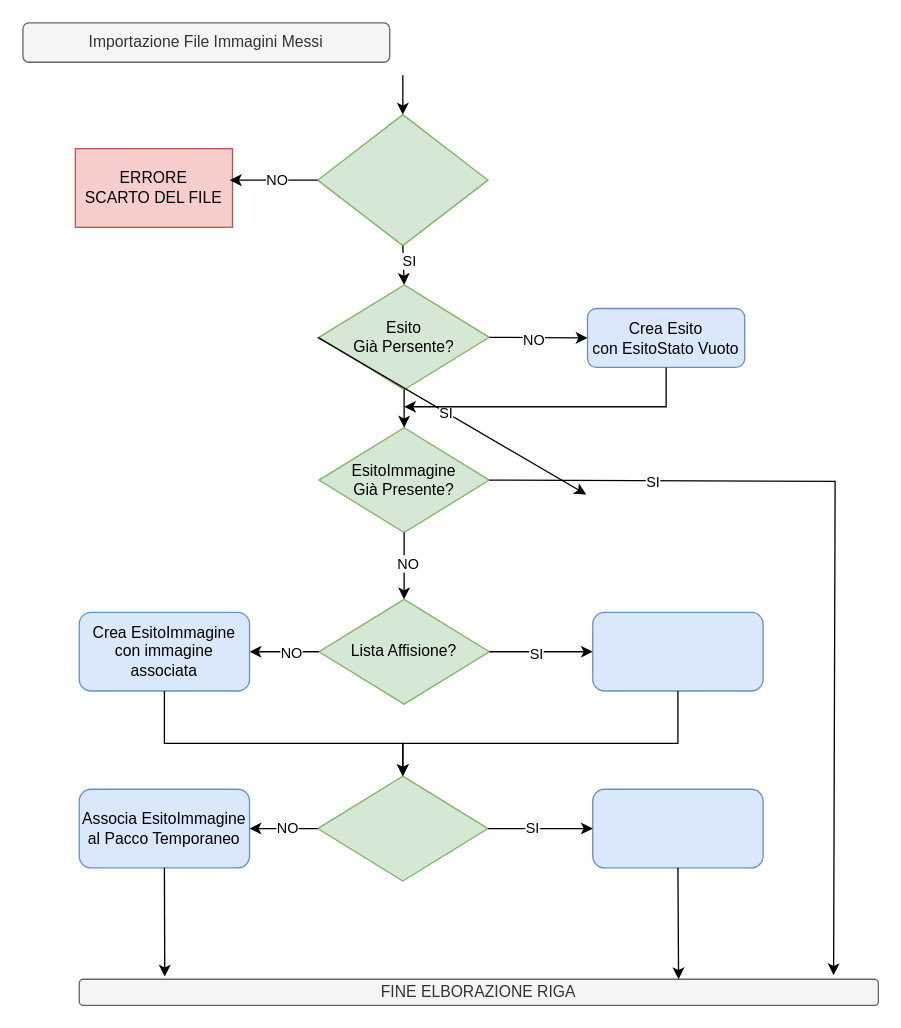
Image size: 901x1028. Some labels were removed from this diagram. Each missing label, with the box of its shape:
Associa EsitoImmagine al Pacco dell'Esito: (591, 788, 763, 868)
Crea EsitoImmagine senza immagine associata: (591, 611, 763, 691)
IdDocSpedizione presente?: (316, 113, 488, 246)
Pacco Già Presente?: (316, 775, 488, 881)
